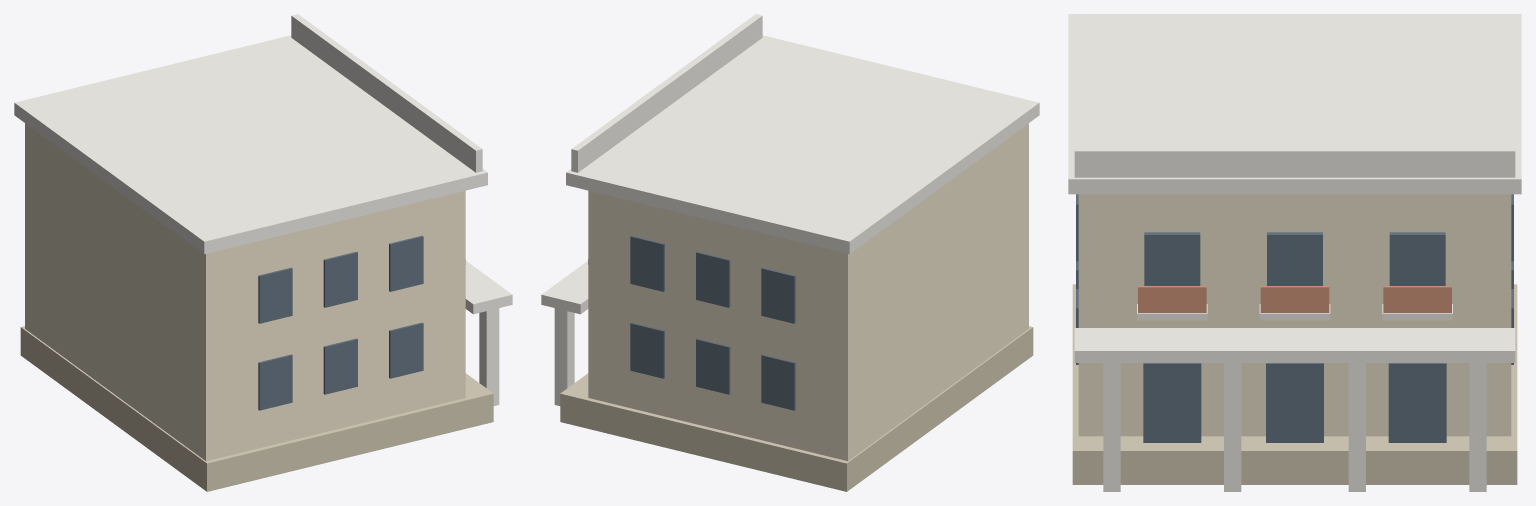
The model's file is rambla_building_0.glb.
3 renders of one model, left to right at view 1: azimuth 30°, elevation 25°; view 2: azimuth 150°, elevation 25°; view 3: azimuth 270°, elevation 25°, orthographic. The views are drawn at different scales.
Visible parts, largest first — view 1: RamblaBuilding_0; view 2: RamblaBuilding_0; view 3: RamblaBuilding_0.
Boxes of the visible parts, x1,y1,x2,y2 form: RamblaBuilding_0: (14,14,512,491); RamblaBuilding_0: (541,14,1039,491); RamblaBuilding_0: (1068,14,1521,491).
Size of the model in its own units: 10.3 by 8.7 by 10.9.
